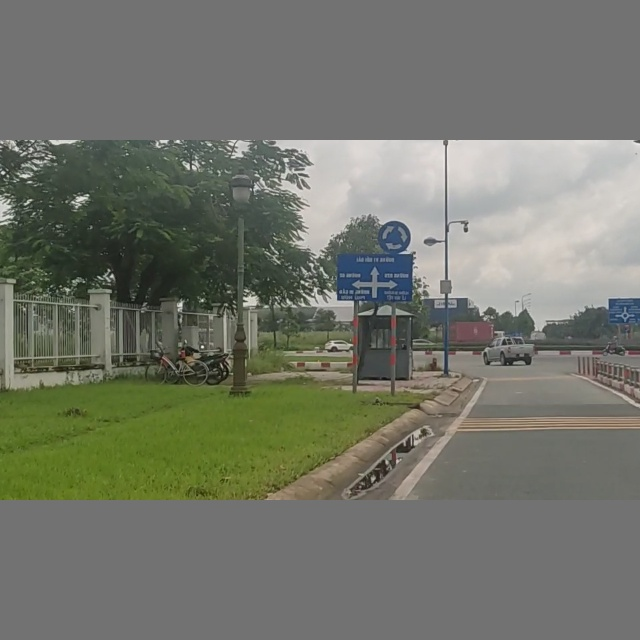R.303: (377, 218, 413, 255)
